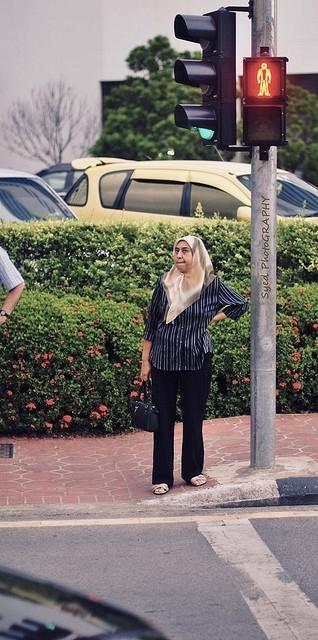car: (64, 160, 318, 222), (0, 166, 82, 223), (36, 156, 138, 199)
